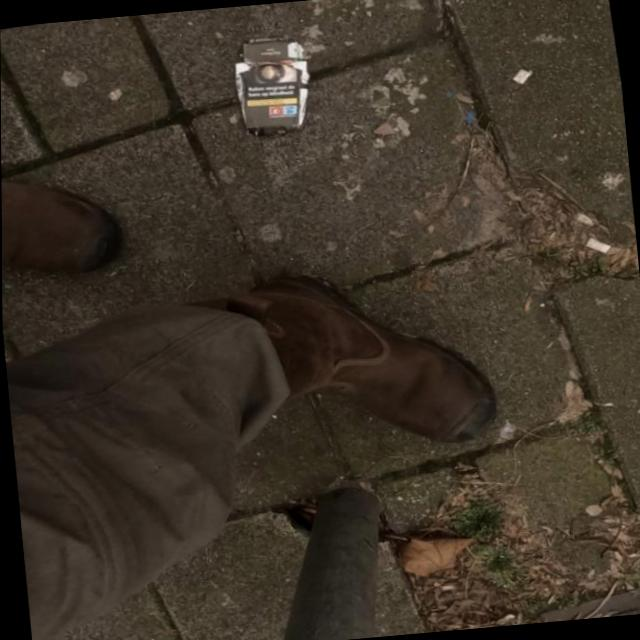Paper: (227, 31, 318, 140)
